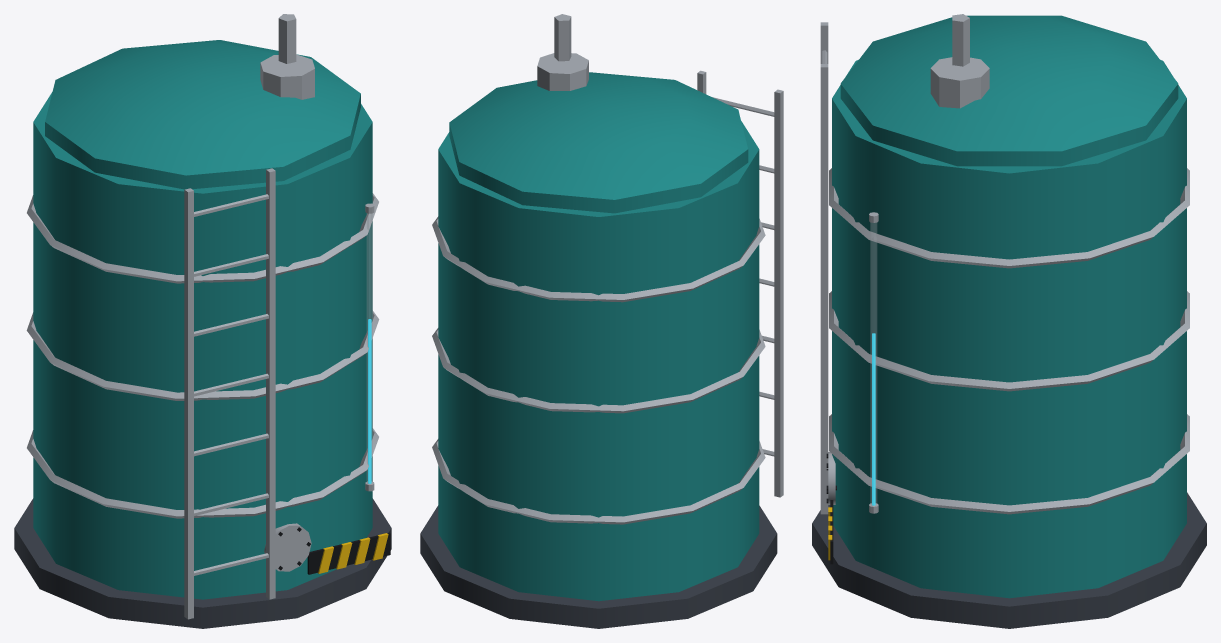
File: tank_vertical_coolant_tank.glb
3 views of the same model, side by side, from view 1: azimuth 30°, elevation 25°; view 2: azimuth 150°, elevation 25°; view 3: azimuth 270°, elevation 25° (orthographic). The views are drawn at different scales.
Parts seen in each view (by area): view 1: tank_vertical_coolant_tank; view 2: tank_vertical_coolant_tank; view 3: tank_vertical_coolant_tank.
Part boxes in pixels (x1,y1,x2,y2): tank_vertical_coolant_tank: [14, 14, 391, 628]; tank_vertical_coolant_tank: [420, 14, 783, 628]; tank_vertical_coolant_tank: [812, 14, 1206, 628].
Size of the model in its own units: 1.6 by 2.5 by 1.6.
